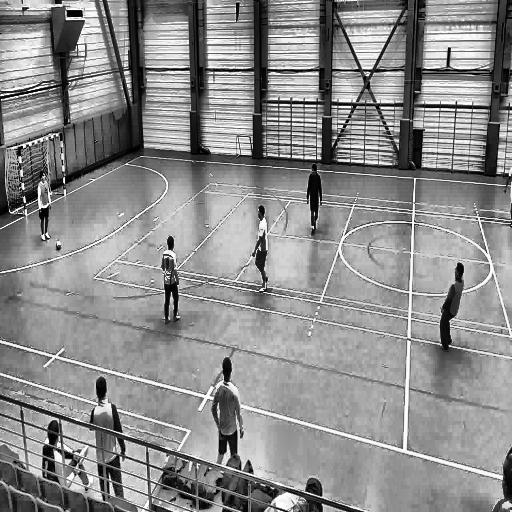ball: (54, 238, 64, 251)
player: (90, 374, 127, 498), (210, 357, 245, 462), (438, 262, 465, 356), (250, 204, 273, 297), (160, 235, 182, 326), (306, 161, 325, 237), (36, 168, 52, 243)
